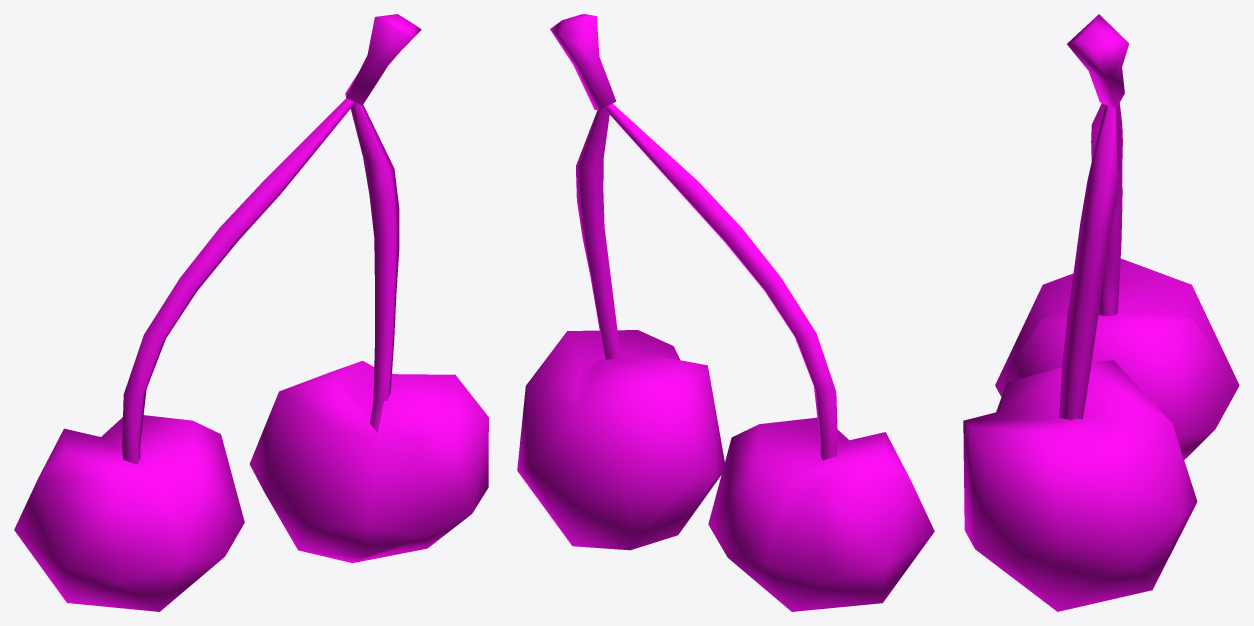
The model's file is cherry_meshCollider.fbx.
3 views of the same model, side by side, from view 1: azimuth 30°, elevation 25°; view 2: azimuth 150°, elevation 25°; view 3: azimuth 270°, elevation 25° (orthographic). The views are drawn at different scales.
Parts seen in each view (by area): view 1: foods_cherry_meshCollider; view 2: foods_cherry_meshCollider; view 3: foods_cherry_meshCollider.
Part boxes in pixels (x1,y1,x2,y2): foods_cherry_meshCollider: (14,14,488,611); foods_cherry_meshCollider: (517,14,934,611); foods_cherry_meshCollider: (963,14,1239,611).
Bounding box in the file's own units: 10.5 × 12.94 × 5.46.
